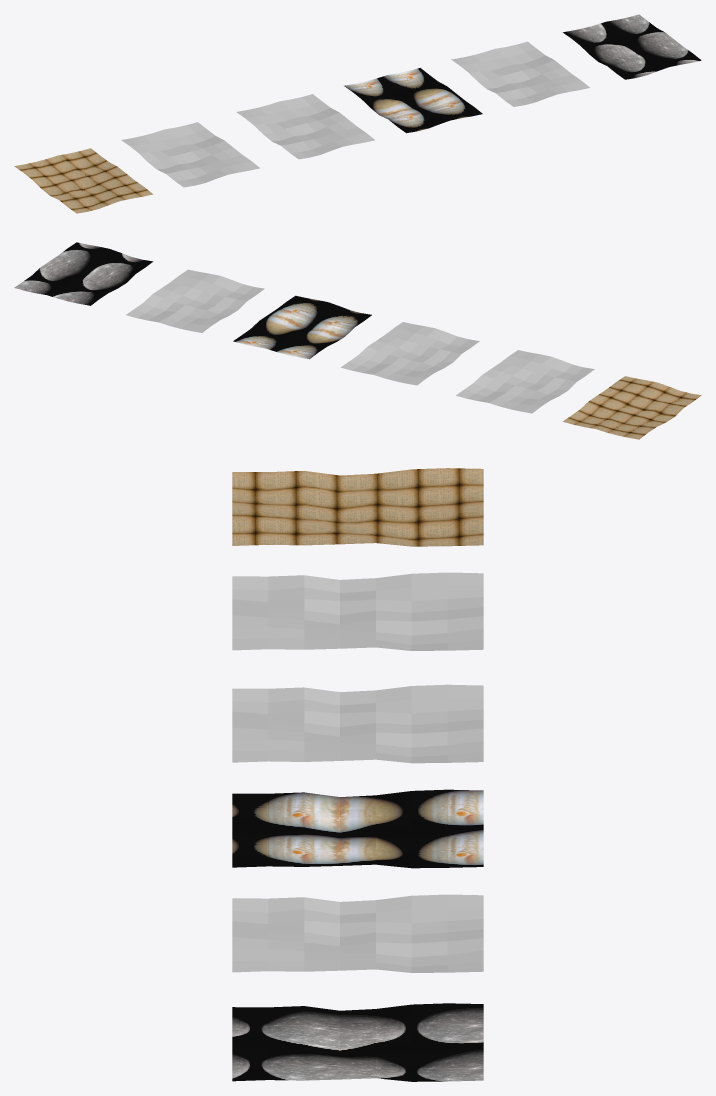
File: Paper.fbx
3 views of the same model, one above another, from view 1: azimuth 30°, elevation 25°; view 2: azimuth 150°, elevation 25°; view 3: azimuth 270°, elevation 25° (orthographic). The views are drawn at different scales.
Visible parts, largest first — view 1: Y_MARS, Y_MERCURY, Y_EARTH, Y_VENUS, INS_GUIDE, Y_JUPITER; view 2: Y_MERCURY, Y_EARTH, Y_JUPITER, INS_GUIDE, Y_MARS, Y_VENUS; view 3: Y_EARTH, Y_VENUS, Y_MARS, Y_MERCURY, Y_JUPITER, INS_GUIDE.
Part boxes in pixels (left/top/right/bottom): Y_MARS: left=236, top=94, right=374, bottom=159; Y_MERCURY: left=563, top=14, right=701, bottom=79; Y_EARTH: left=121, top=122, right=259, bottom=187; Y_VENUS: left=451, top=41, right=589, bottom=106; INS_GUIDE: left=14, top=148, right=153, bottom=213; Y_JUPITER: left=344, top=68, right=482, bottom=133; Y_MERCURY: left=14, top=242, right=153, bottom=305; Y_EARTH: left=456, top=350, right=594, bottom=413; Y_JUPITER: left=233, top=295, right=371, bottom=359; INS_GUIDE: left=563, top=376, right=701, bottom=439; Y_MARS: left=340, top=322, right=479, bottom=385; Y_VENUS: left=126, top=269, right=264, bottom=332; Y_EARTH: left=232, top=572, right=483, bottom=650; Y_VENUS: left=232, top=894, right=483, bottom=972; Y_MARS: left=232, top=684, right=483, bottom=763; Y_MERCURY: left=232, top=1003, right=483, bottom=1081; Y_JUPITER: left=232, top=789, right=483, bottom=868; INS_GUIDE: left=232, top=468, right=483, bottom=546.
Bounding box in the file's own units: 171 × 1.38 × 29.7.
